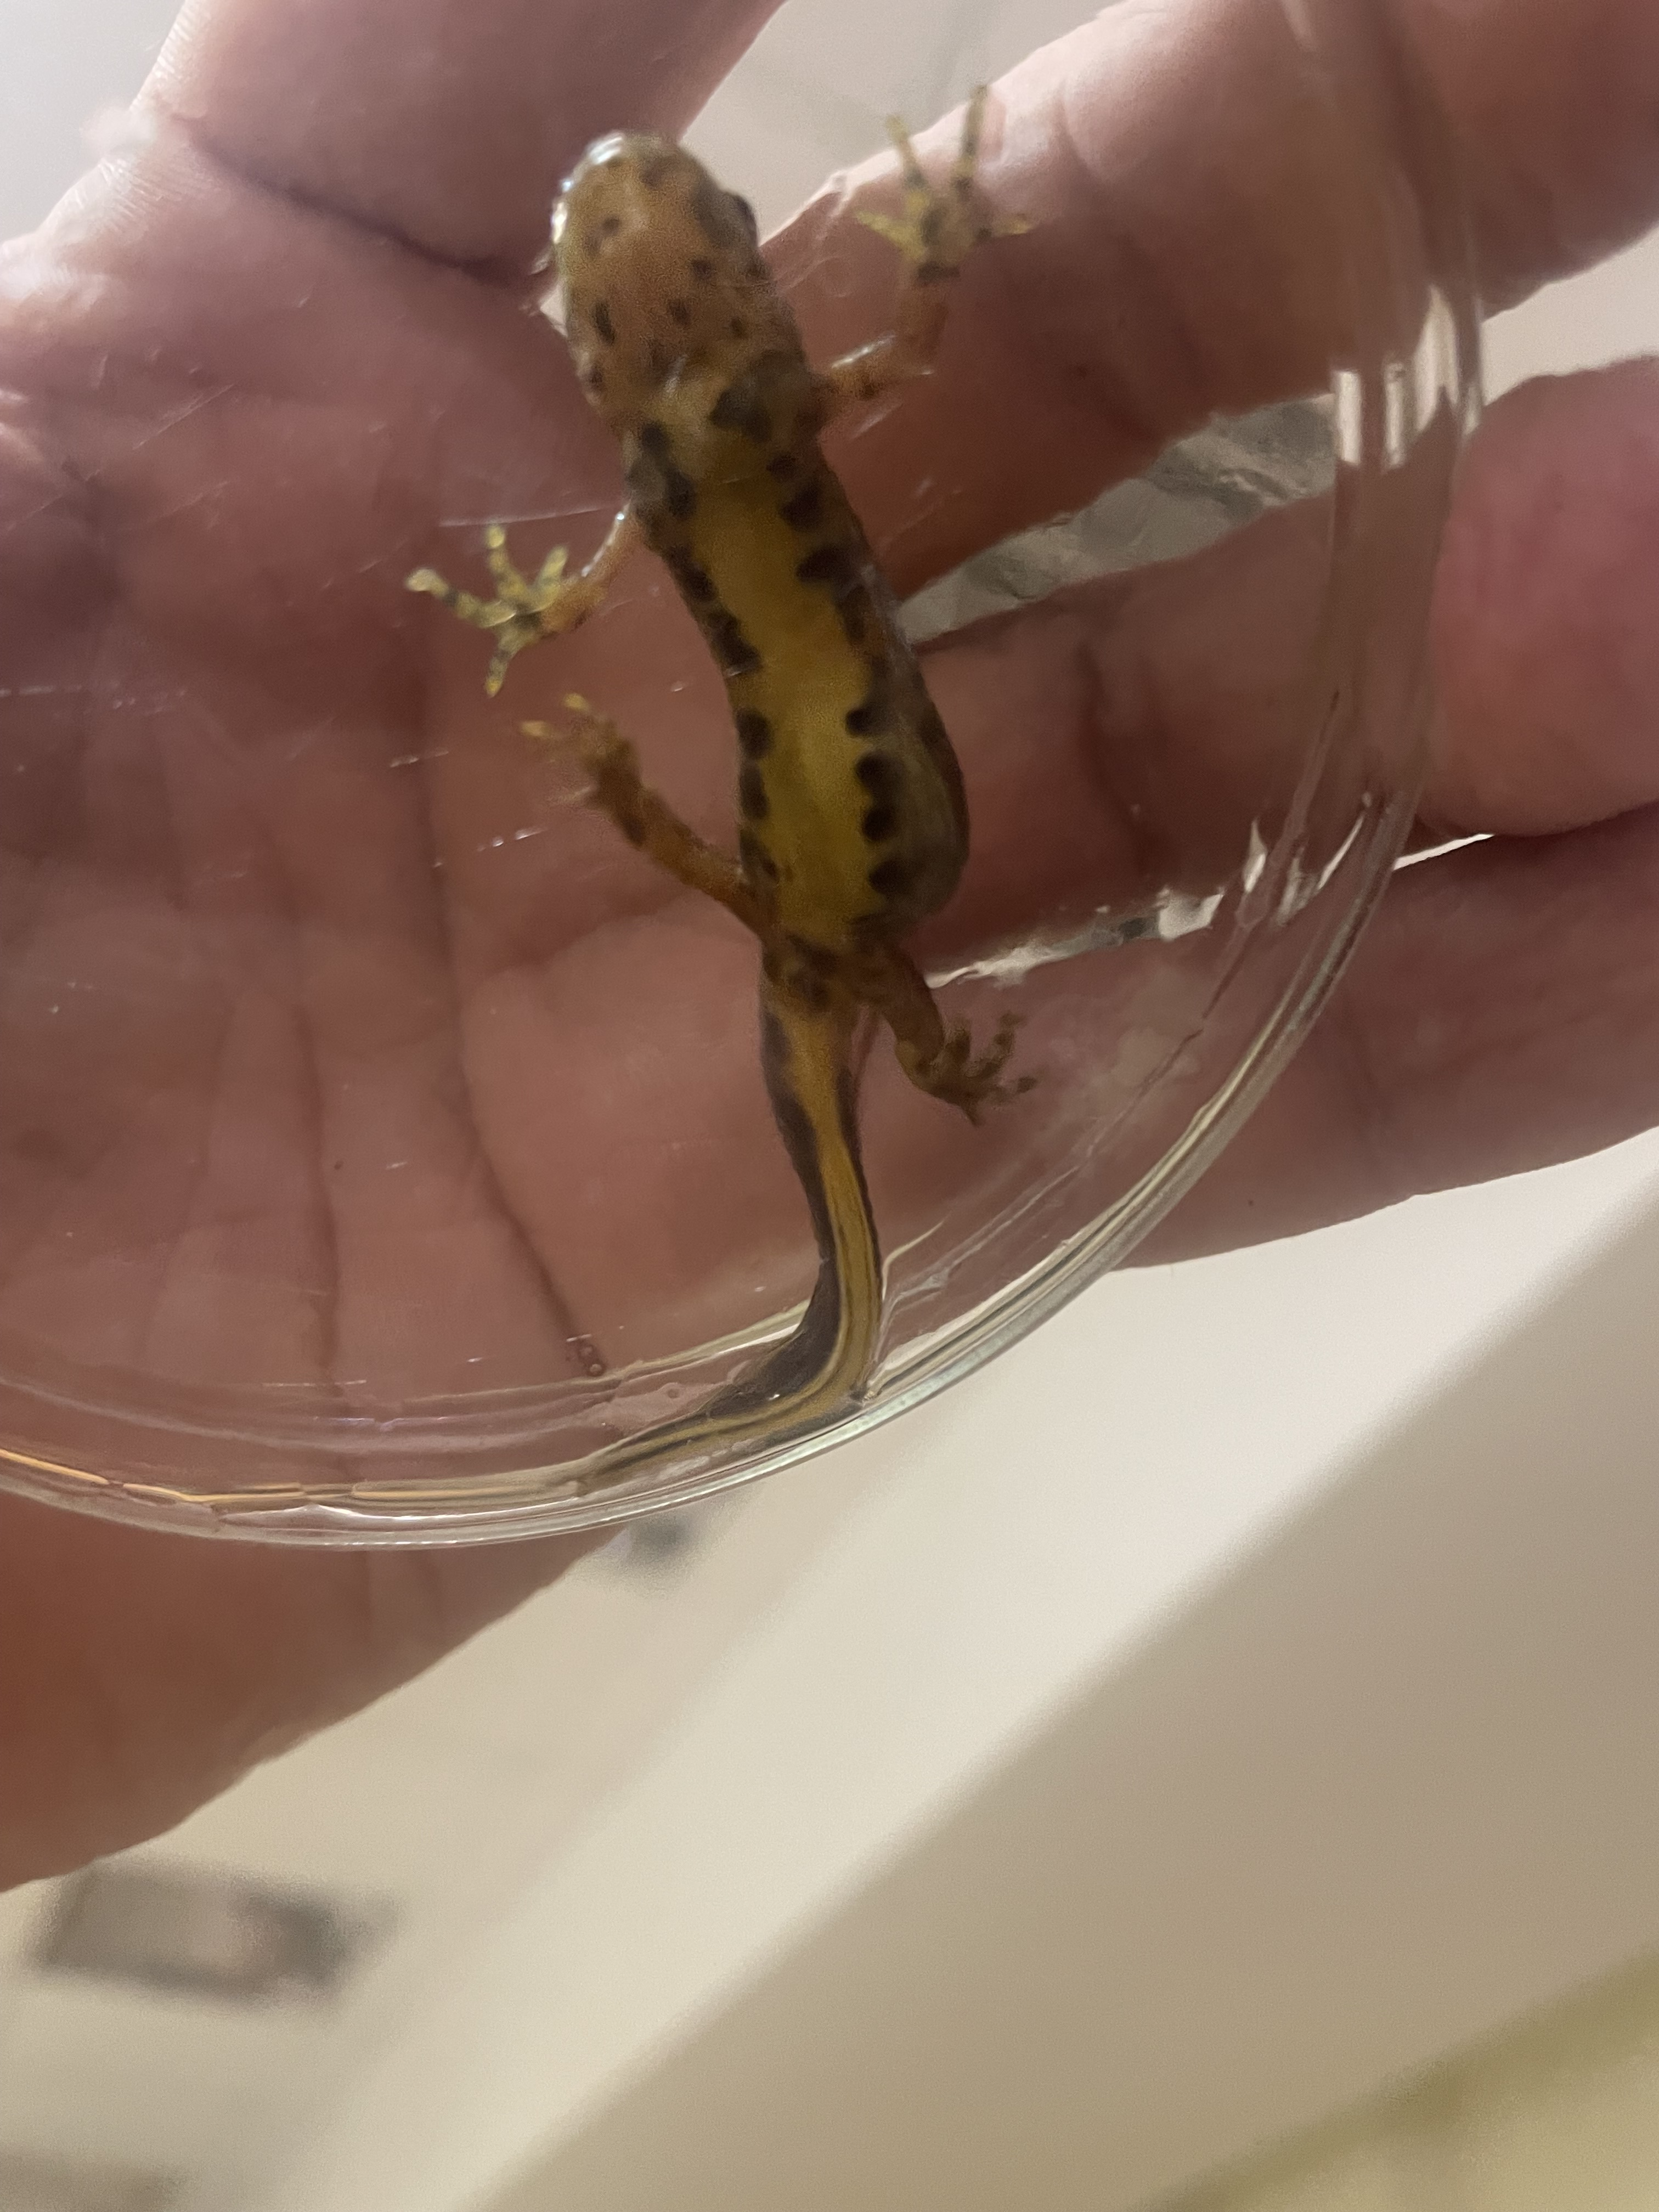Karelin_newt: (648, 439, 969, 946)
